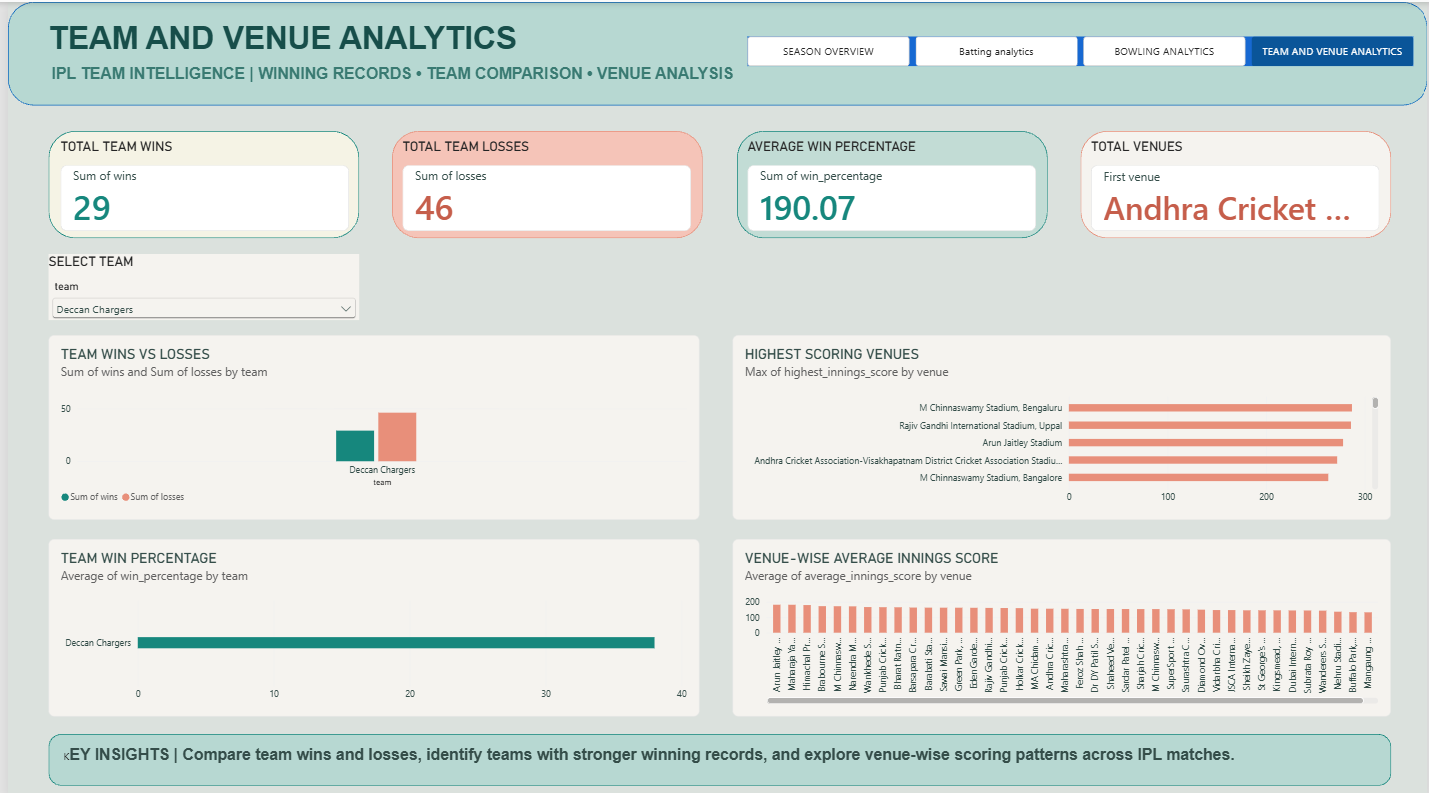

The dashboard page shown, as its layout file describes it:
{"tool":"powerbi","page":{"name":"TEAM AND VENUE ANALYTICS","canvas":[1920,1080],"ordinal":3},"visuals":[{"type":"shape","box":[0,0,1920.1,139.9],"z":0},{"type":"textbox","box":[55,25,1100,55],"z":1000},{"type":"textbox","box":[58,85,1100,30],"z":2000},{"type":"shape","box":[55,175,420,145],"z":3000},{"type":"cardVisual","title":"TOTAL TEAM WINS","fields":{"Data":["Sum(gold_team_perfomance.wins)"]},"box":[70,185,390,125],"z":4000},{"type":"shape","box":[520,175,420,145],"z":5000},{"type":"cardVisual","title":"TOTAL TEAM LOSSES","fields":{"Data":["Sum(gold_team_perfomance.losses)"]},"box":[534,184,390,125],"z":6000},{"type":"shape","box":[985,175,420,145],"z":7000},{"type":"cardVisual","title":"AVERAGE WIN PERCENTAGE","fields":{"Data":["Sum(gold_team_perfomance.win_percentage)"]},"box":[1000,185,390,125],"z":8000},{"type":"slicer","title":"SELECT TEAM","fields":{"Values":["gold_team_perfomance.team"]},"box":[55,340,420,89],"z":9000},{"type":"shape","box":[1450,175,420,145],"z":10000},{"type":"cardVisual","title":"TOTAL VENUES","fields":{"Data":["Min(gold_venue_stats.venue)"]},"box":[1464,184,390,125],"z":11000},{"type":"clusteredColumnChart","title":"TEAM WINS VS LOSSES","fields":{"Category":["gold_team_perfomance.team"],"Y":["Sum(gold_team_perfomance.wins)","Sum(gold_team_perfomance.losses)"]},"box":[55,450,880,250],"z":11001},{"type":"clusteredBarChart","title":"HIGHEST SCORING VENUES","fields":{"Category":["gold_venue_stats.venue"],"Y":["Max(gold_venue_stats.highest_innings_score)"]},"box":[980,450,890,250],"z":11002},{"type":"clusteredBarChart","title":"TEAM WIN PERCENTAGE","fields":{"Category":["gold_team_perfomance.team"],"Y":["Avg(gold_team_perfomance.win_percentage)"]},"box":[55,725,880,240],"z":11003},{"type":"clusteredColumnChart","title":"VENUE-WISE AVERAGE INNINGS SCORE","fields":{"Category":["gold_venue_stats.venue"],"Y":["Avg(gold_venue_stats.average_innings_score)"]},"box":[980,725,890,240],"z":11004},{"type":"shape","box":[55,990,1815,70],"z":11005},{"type":"textbox","box":[75,1005,1775,45],"z":11006},{"type":"pageNavigator","box":[1000,46,900,40],"z":11007}]}

Visuals, with their boxes in screenshot pixels (x1, y1, x2, y2), scaled from the page's 1920x1080 canvas onto the 1429x793 screenshot:
shape: Rect(0, 0, 1428, 103)
textbox: Rect(41, 18, 860, 59)
textbox: Rect(43, 62, 862, 84)
shape: Rect(41, 128, 354, 235)
"TOTAL TEAM WINS" cardVisual: Rect(52, 136, 342, 228)
shape: Rect(387, 128, 700, 235)
"TOTAL TEAM LOSSES" cardVisual: Rect(397, 135, 688, 227)
shape: Rect(733, 128, 1046, 235)
"AVERAGE WIN PERCENTAGE" cardVisual: Rect(744, 136, 1035, 228)
"SELECT TEAM" slicer: Rect(41, 250, 354, 315)
shape: Rect(1079, 128, 1392, 235)
"TOTAL VENUES" cardVisual: Rect(1090, 135, 1380, 227)
"TEAM WINS VS LOSSES" clusteredColumnChart: Rect(41, 330, 696, 514)
"HIGHEST SCORING VENUES" clusteredBarChart: Rect(729, 330, 1392, 514)
"TEAM WIN PERCENTAGE" clusteredBarChart: Rect(41, 532, 696, 709)
"VENUE-WISE AVERAGE INNINGS SCORE" clusteredColumnChart: Rect(729, 532, 1392, 709)
shape: Rect(41, 727, 1392, 778)
textbox: Rect(56, 738, 1377, 771)
pageNavigator: Rect(744, 34, 1414, 63)
